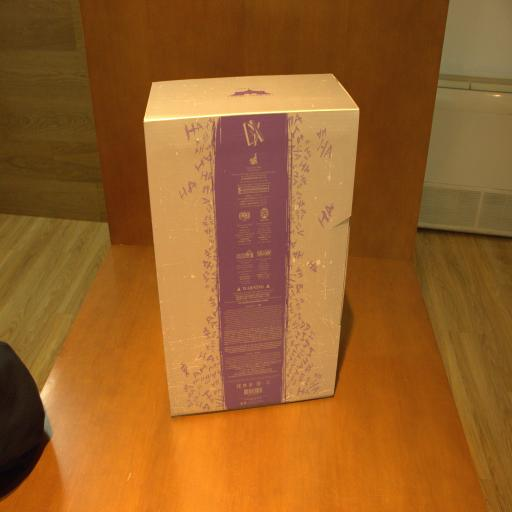Joker: (145, 73, 359, 417)
